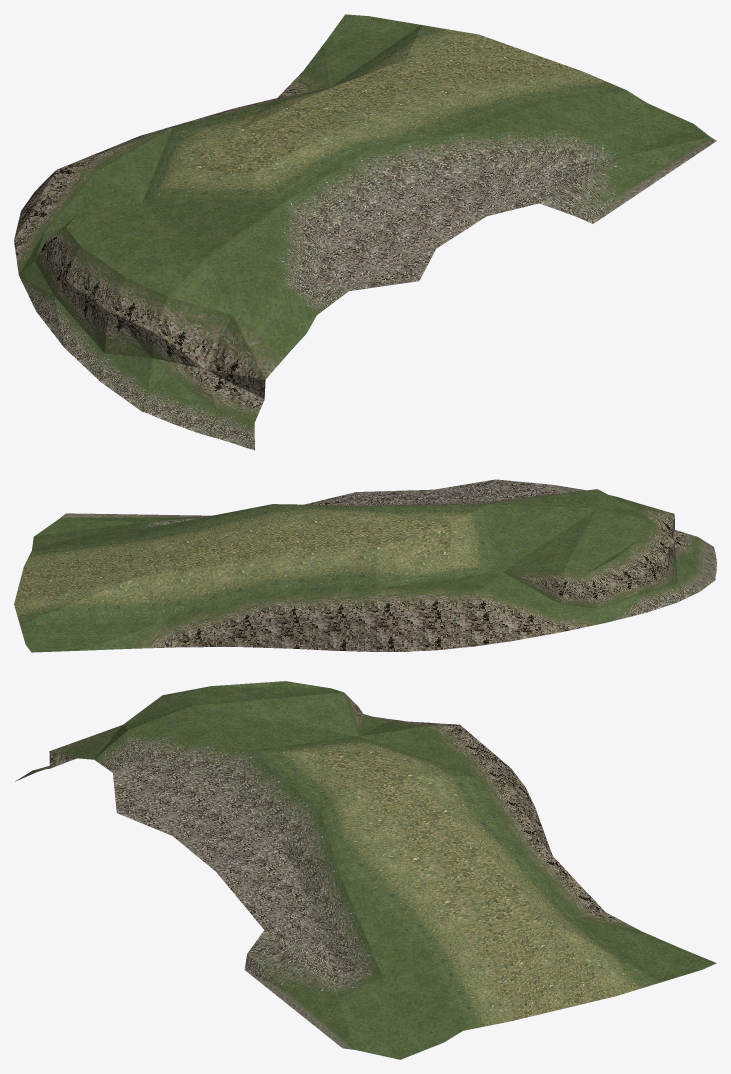
File: lodce_groualo07.obj
3 views of the same model, one above another, from view 1: azimuth 30°, elevation 25°; view 2: azimuth 150°, elevation 25°; view 3: azimuth 270°, elevation 25° (orthographic). The views are drawn at different scales.
Visible parts, largest first — view 1: LODCE_grouALO07; view 2: LODCE_grouALO07; view 3: LODCE_grouALO07.
Boxes of the visible parts, x1,y1,x2,y2 form: LODCE_grouALO07: (14,14,716,450); LODCE_grouALO07: (14,479,716,652); LODCE_grouALO07: (15,681,716,1059).
Size of the model in its own units: 270 by 40.62 by 251.
Materials: 7 (7 with a texture image).
